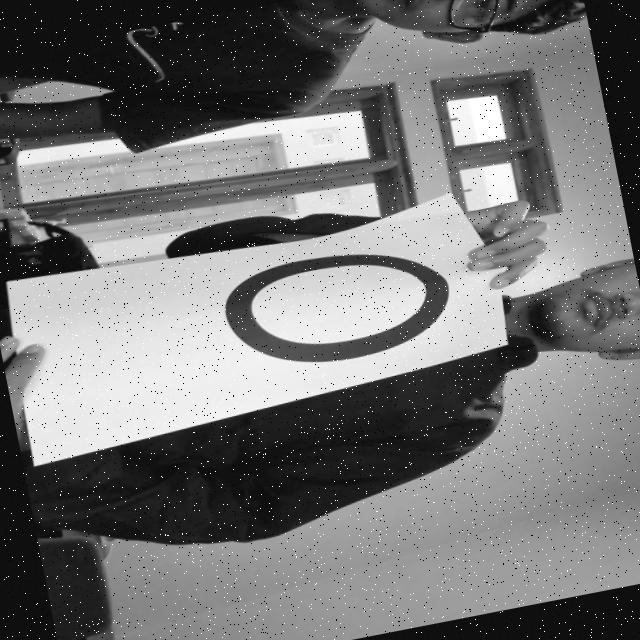o: (208, 213, 490, 409)
